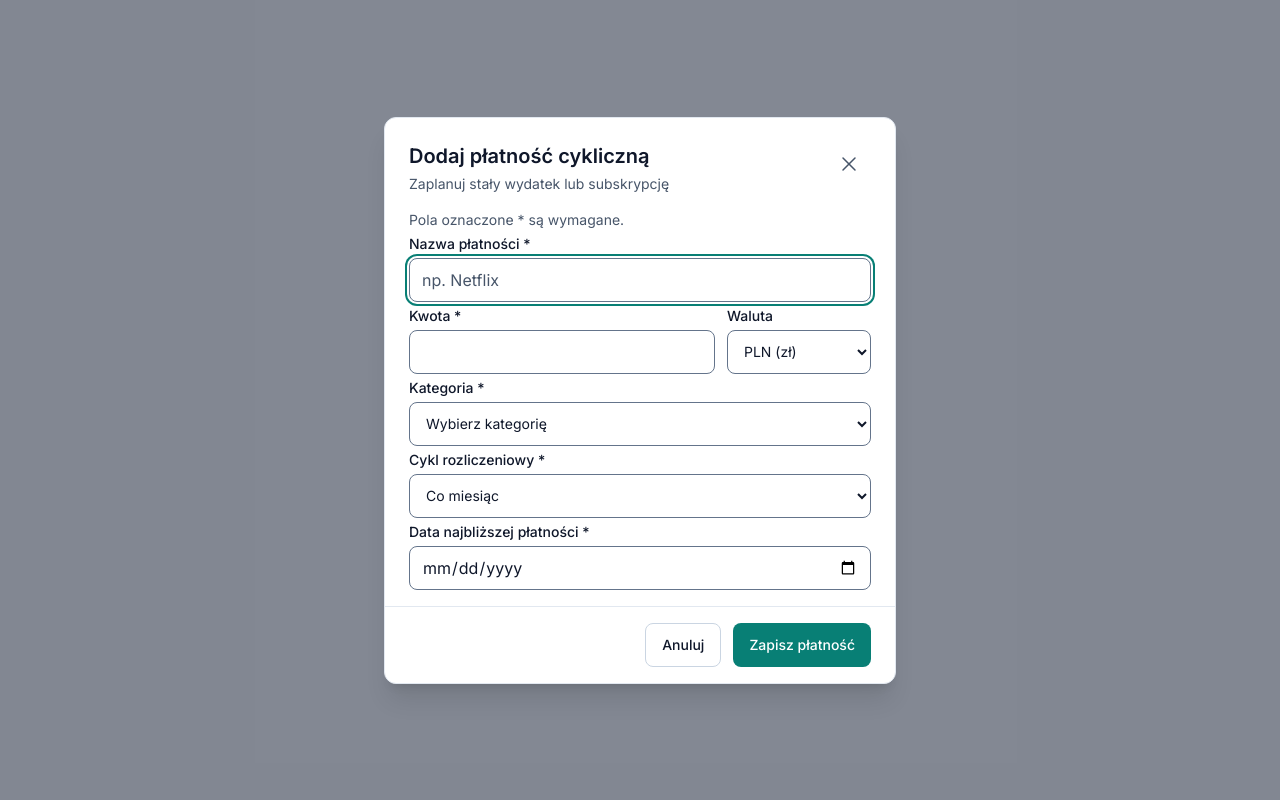
Scenario: RecurringPaymentDialog › sends nothing, shows the four messages and focuses the name when the form is empty
Click the button "Zapisz płatność": {"x": 802, "y": 644} [733, 622, 871, 666]
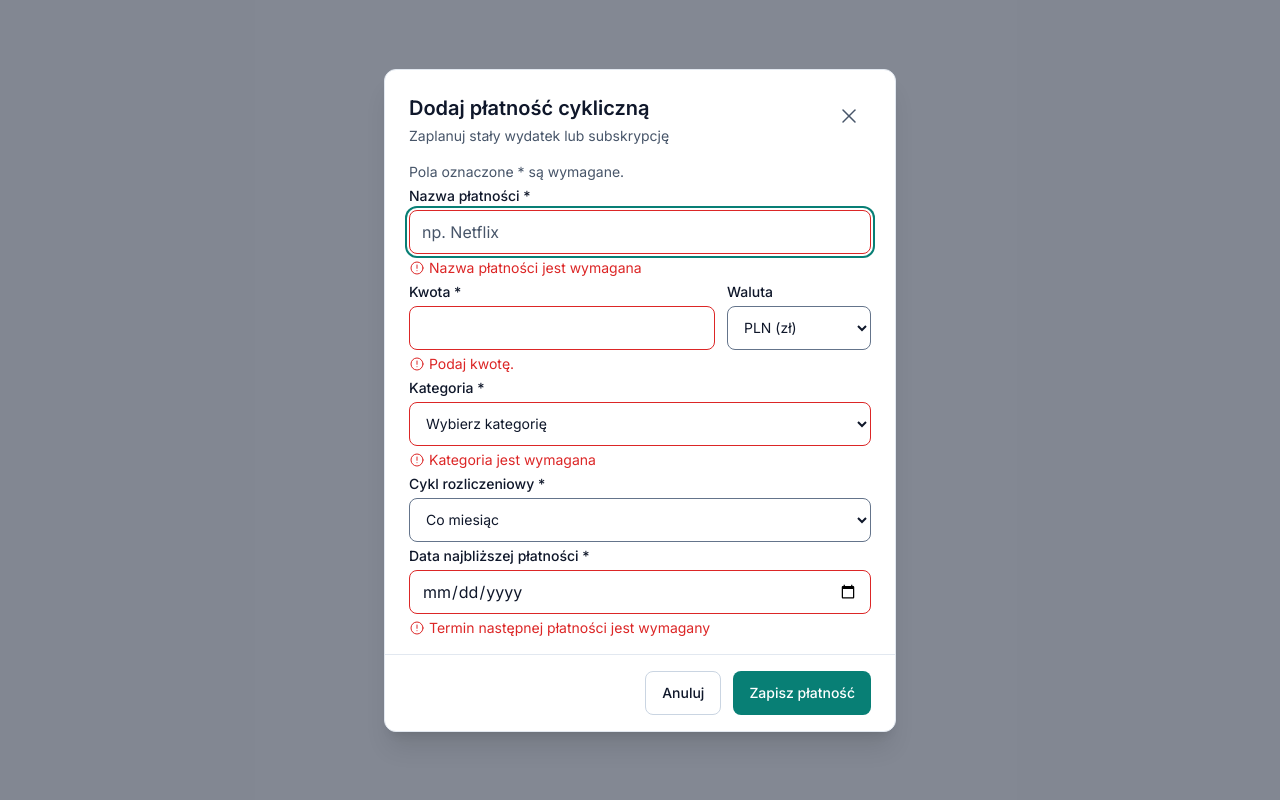
Now the messages read "Nazwa płatności jest wymagana", "Podaj kwotę.", "Kategoria jest wymagana", "Termin następnej płatności jest wymagany", in this order, box [409, 258, 642, 276]; [409, 354, 514, 372]; [409, 450, 596, 468]; [409, 618, 710, 636]
